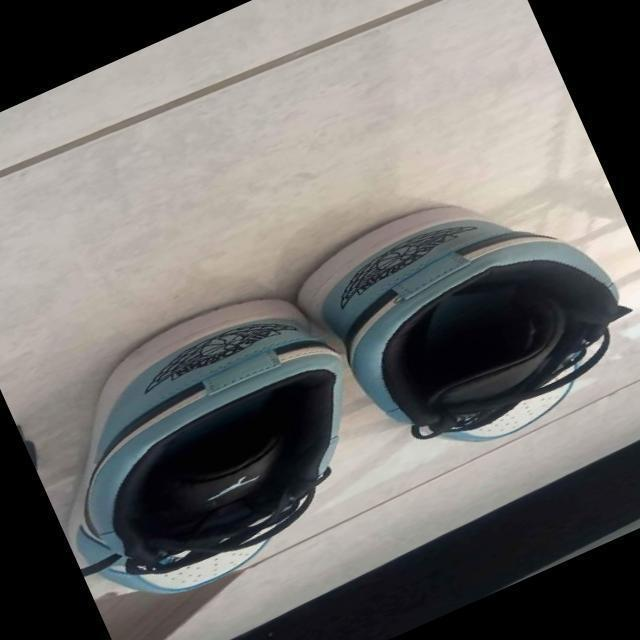nike fake jordan 1: (9, 268, 410, 632), (280, 144, 640, 481)
